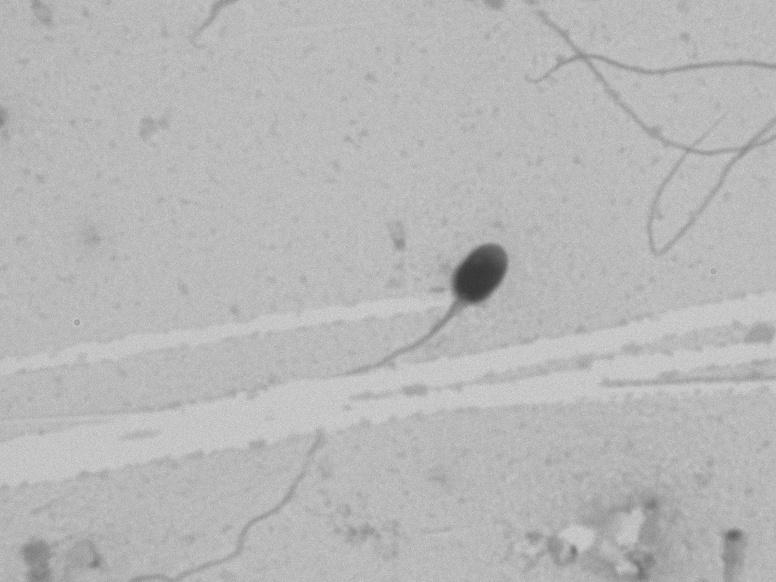Abnormal: (300, 213, 555, 401)
